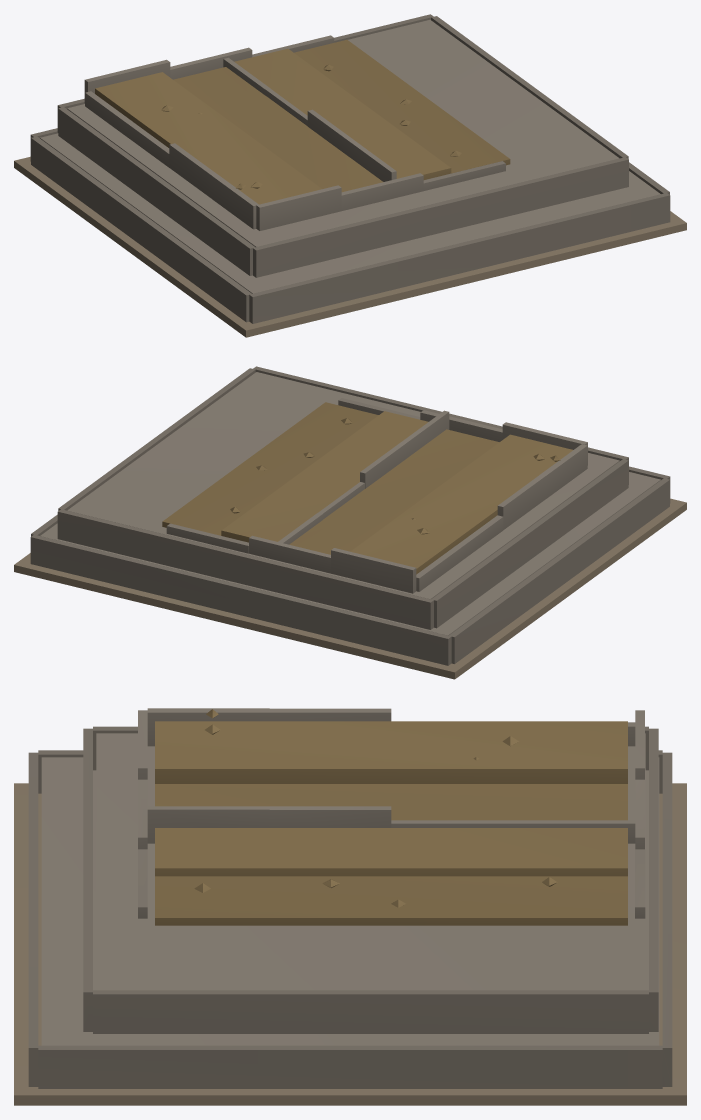
File: caral_pyramid_mayor_phase2_lod1.glb
3 views of the same model, one above another, from view 1: azimuth 30°, elevation 25°; view 2: azimuth 150°, elevation 25°; view 3: azimuth 270°, elevation 25° (orthographic). The views are drawn at different scales.
Visible parts, largest first — view 1: GEO-Arch_pyramid_mayor_phase2_LOD1; view 2: GEO-Arch_pyramid_mayor_phase2_LOD1; view 3: GEO-Arch_pyramid_mayor_phase2_LOD1.
Part boxes in pixels (<box>): GEO-Arch_pyramid_mayor_phase2_LOD1: <box>14,14,686,337</box>; GEO-Arch_pyramid_mayor_phase2_LOD1: <box>14,366,686,679</box>; GEO-Arch_pyramid_mayor_phase2_LOD1: <box>14,708,686,1105</box>.
Size of the model in its own units: 45.4 by 8.76 by 41.4.
